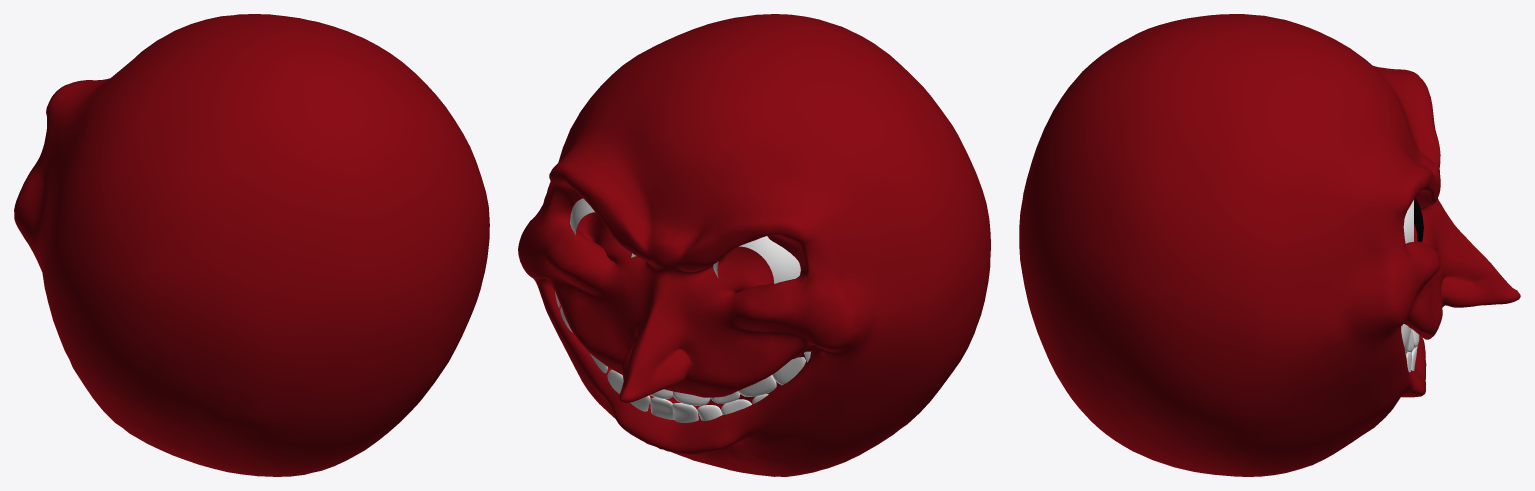
Rendered from Red-roll.fbx.
3 views of the same model, side by side, from view 1: azimuth 30°, elevation 25°; view 2: azimuth 150°, elevation 25°; view 3: azimuth 270°, elevation 25° (orthographic).
Parts seen in each view (by area): view 1: Sphere.001; view 2: Sphere.001; view 3: Sphere.001.
Part boxes in pixels (x1,y1,x2,y2): Sphere.001: (14, 14, 489, 476); Sphere.001: (518, 14, 990, 476); Sphere.001: (1019, 14, 1520, 476).
Size of the model in its own units: 175 by 176 by 189.
